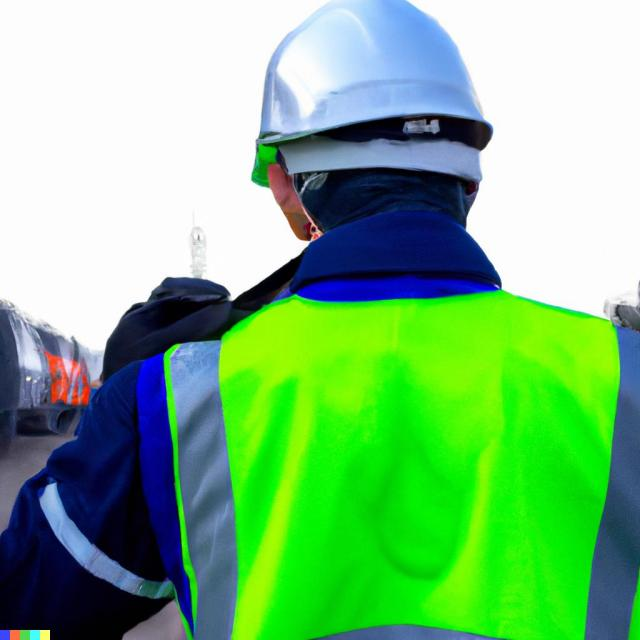Reflective-Jacket: (117, 255, 632, 639)
Safety-Helmet: (252, 3, 499, 156)
